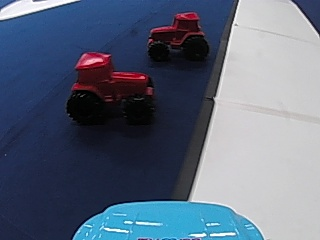tractor: (64, 47, 155, 126), (146, 11, 211, 62)
